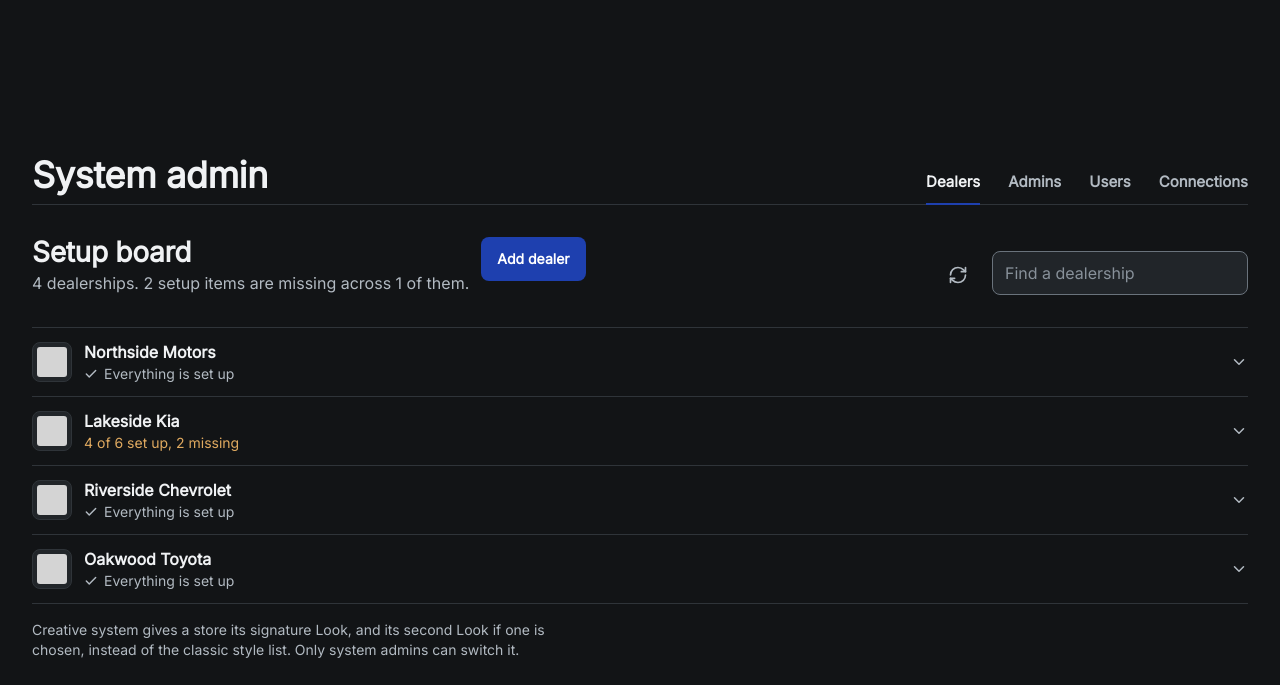
Test case: the setup board on a phone › is a list whose rows open the same content, notes behind a disclosure
(page scrolled)
Expected: the button "Northside Motors Everything is set up" is shown, [32,328,1248,396]
Click the button "Lakeside Kia 4 of 6 set up, 2 missing".
click(52, 431)  # box [32,397,1248,465]
(page scrolled)
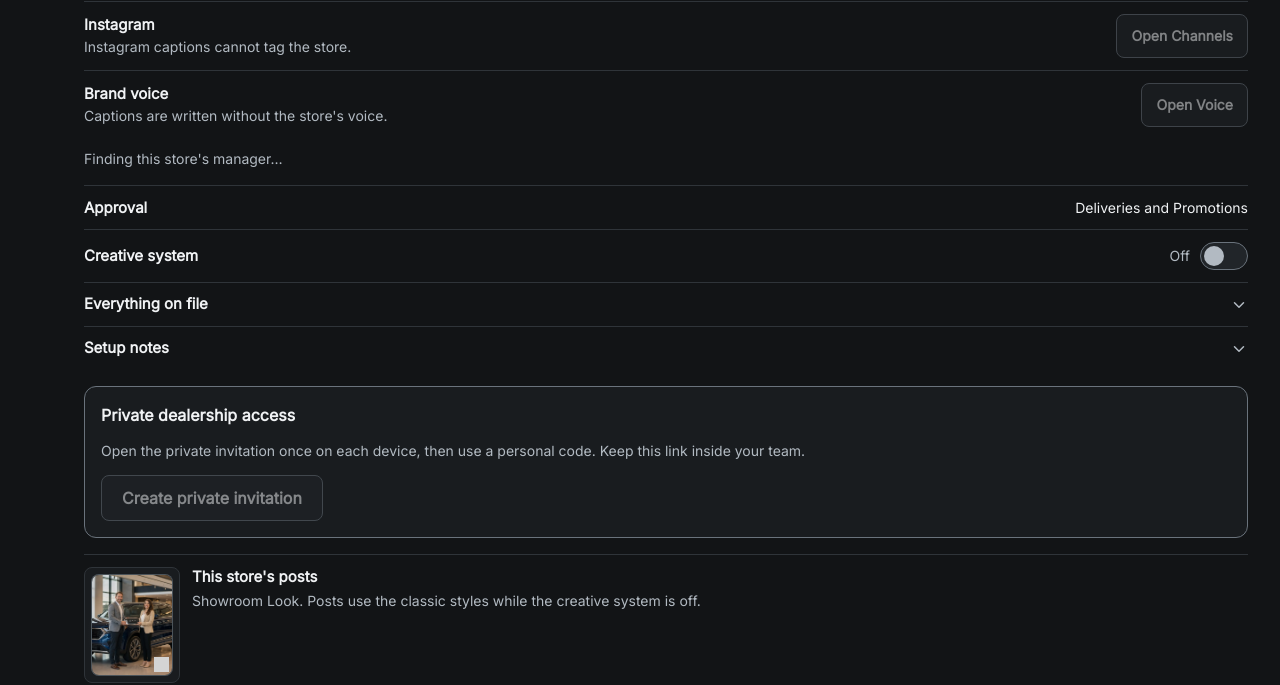
Now the button "Open Channels" is shown, box [1116,14,1248,58]
Now the text "Instagram captions cannot tag the store." is shown, box [84,38,351,55]
Now the switch named "Creative system Lakeside Kia" is shown, box [1200,234,1248,278]
Click the button "Setup notes".
click(126, 348)  # box [84,326,1248,370]
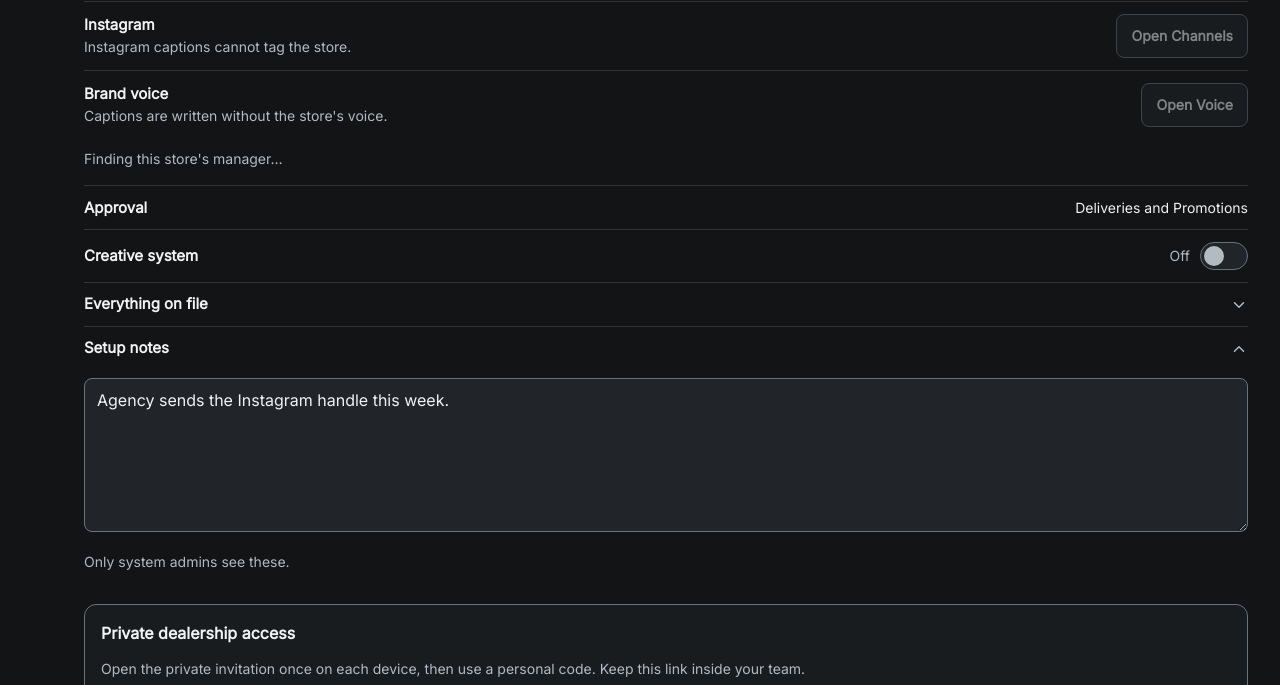
Now the button "Setup notes" is expanded, box [84,326,1248,370]
Now the text box named "Setup notes" holds "Agency sends the Instagram handle this week."
Replace the text in the text box named "Setup notes" with "Phone draft" at x=666, y=455, box [84,378,1248,532]
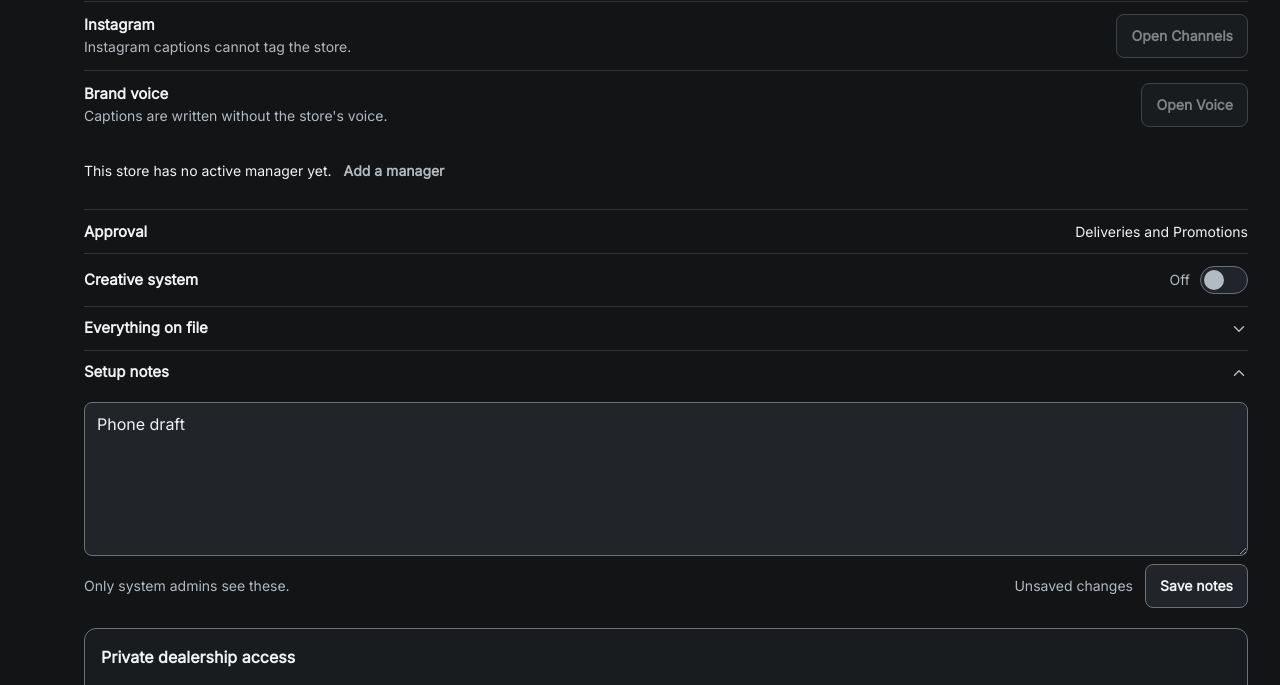
Now the text "Unsaved changes" is shown, box [1014,576,1133,596]
Now the button "Save notes" is shown, box [1145,564,1248,608]
